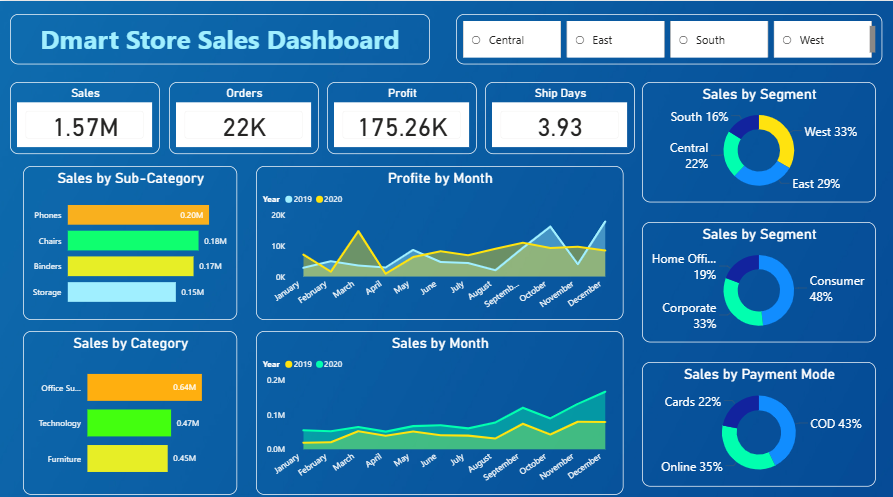

What the dashboard file says about the page in this screenshot:
{"tool":"powerbi","page":{"name":"Page 1","canvas":[1280,720],"ordinal":0},"visuals":[{"type":"clusteredBarChart","title":"Sales by Category","fields":{"Category":["SuperStore_Sales_Dataset.Category"],"Y":["Sum(SuperStore_Sales_Dataset.Sales)"]},"box":[32.3,470.8,306.2,233.8],"z":0},{"type":"clusteredBarChart","title":"Sales by Sub-Category","fields":{"Category":["SuperStore_Sales_Dataset.Sub-Category"],"Y":["Sum(SuperStore_Sales_Dataset.Sales)"]},"box":[32.3,235.4,306.2,220],"z":1000},{"type":"areaChart","title":"Sales by Month","fields":{"Y":["Sum(SuperStore_Sales_Dataset.Sales)"],"Category":["SuperStore_Sales_Dataset.Order Date.Variation.Date Hierarchy.Month"],"Series":["SuperStore_Sales_Dataset.Order Date.Variation.Date Hierarchy.Year"]},"box":[366.2,470.8,524.6,233.8],"z":2000},{"type":"areaChart","title":"Profite by Month","fields":{"Category":["SuperStore_Sales_Dataset.Order Date.Variation.Date Hierarchy.Month"],"Series":["SuperStore_Sales_Dataset.Order Date.Variation.Date Hierarchy.Year"],"Y":["Sum(SuperStore_Sales_Dataset.Profit)"]},"box":[366.2,235.4,524.6,220],"z":3000},{"type":"donutChart","title":"Sales by Segment","fields":{"Category":["SuperStore_Sales_Dataset.Segment"],"Y":["Sum(SuperStore_Sales_Dataset.Sales)"]},"box":[916.9,315.4,333.8,172.3],"z":4000},{"type":"donutChart","title":"Sales by Payment Mode","fields":{"Category":["SuperStore_Sales_Dataset.Payment Mode"],"Y":["Sum(SuperStore_Sales_Dataset.Sales)"]},"box":[916.9,515.4,333.8,178.5],"z":5000},{"type":"advancedSlicerVisual","fields":{"Values":["SuperStore_Sales_Dataset.Region"]},"box":[650.8,18.5,609.2,72.3],"z":6000},{"type":"textbox","box":[13.8,18.5,600,72.3],"z":7000},{"type":"cardVisual","title":"Sales","fields":{"Data":["Sum(SuperStore_Sales_Dataset.Sales)"]},"box":[13.8,115.4,213.8,103.1],"z":8000},{"type":"cardVisual","title":"Ship Days","fields":{"Data":["Avg(SuperStore_Sales_Dataset.Avg Delivary)"]},"box":[692.3,115.4,213.8,103.1],"z":9000},{"type":"cardVisual","title":"Profit","fields":{"Data":["Sum(SuperStore_Sales_Dataset.Profit)"]},"box":[467.7,115.4,213.8,103.1],"z":10000},{"type":"cardVisual","title":"Orders","fields":{"Data":["Sum(SuperStore_Sales_Dataset.Quantity)"]},"box":[241.5,115.4,213.8,103.1],"z":11000},{"type":"donutChart","title":"Sales by Segment","fields":{"Y":["Sum(SuperStore_Sales_Dataset.Sales)"],"Category":["SuperStore_Sales_Dataset.Region"]},"box":[916.9,115.4,333.8,172.3],"z":11001}]}

Visuals, with their boxes in screenshot pixels (x1, y1, x2, y2), scaled from the page's 1280x720 canvas onto the 893x497 screenshot:
"Sales by Category" clusteredBarChart: {"x1": 23, "y1": 325, "x2": 236, "y2": 486}
"Sales by Sub-Category" clusteredBarChart: {"x1": 23, "y1": 162, "x2": 236, "y2": 314}
"Sales by Month" areaChart: {"x1": 255, "y1": 325, "x2": 621, "y2": 486}
"Profite by Month" areaChart: {"x1": 255, "y1": 162, "x2": 621, "y2": 314}
"Sales by Segment" donutChart: {"x1": 640, "y1": 218, "x2": 873, "y2": 337}
"Sales by Payment Mode" donutChart: {"x1": 640, "y1": 356, "x2": 873, "y2": 479}
advancedSlicerVisual - SuperStore_Sales_Dataset.Region: {"x1": 454, "y1": 13, "x2": 879, "y2": 63}
textbox: {"x1": 10, "y1": 13, "x2": 428, "y2": 63}
"Sales" cardVisual: {"x1": 10, "y1": 80, "x2": 159, "y2": 151}
"Ship Days" cardVisual: {"x1": 483, "y1": 80, "x2": 632, "y2": 151}
"Profit" cardVisual: {"x1": 326, "y1": 80, "x2": 475, "y2": 151}
"Orders" cardVisual: {"x1": 168, "y1": 80, "x2": 318, "y2": 151}
"Sales by Segment" donutChart: {"x1": 640, "y1": 80, "x2": 873, "y2": 199}
